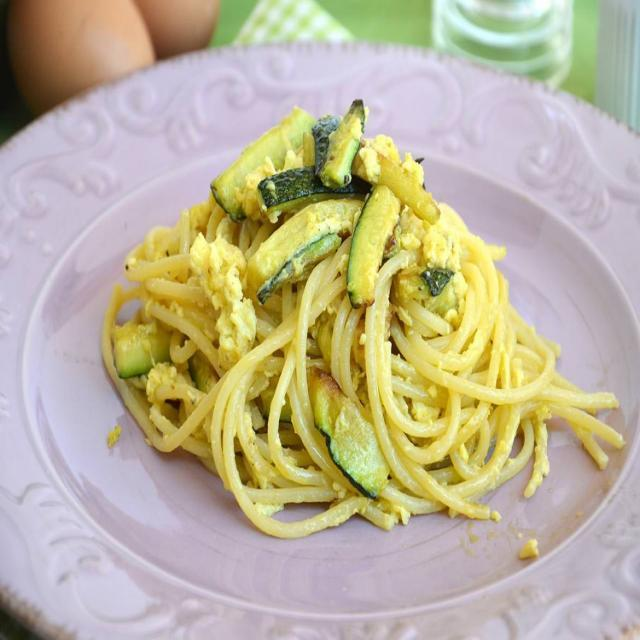Pasta with carbonara sauce: (116, 61, 598, 551)
